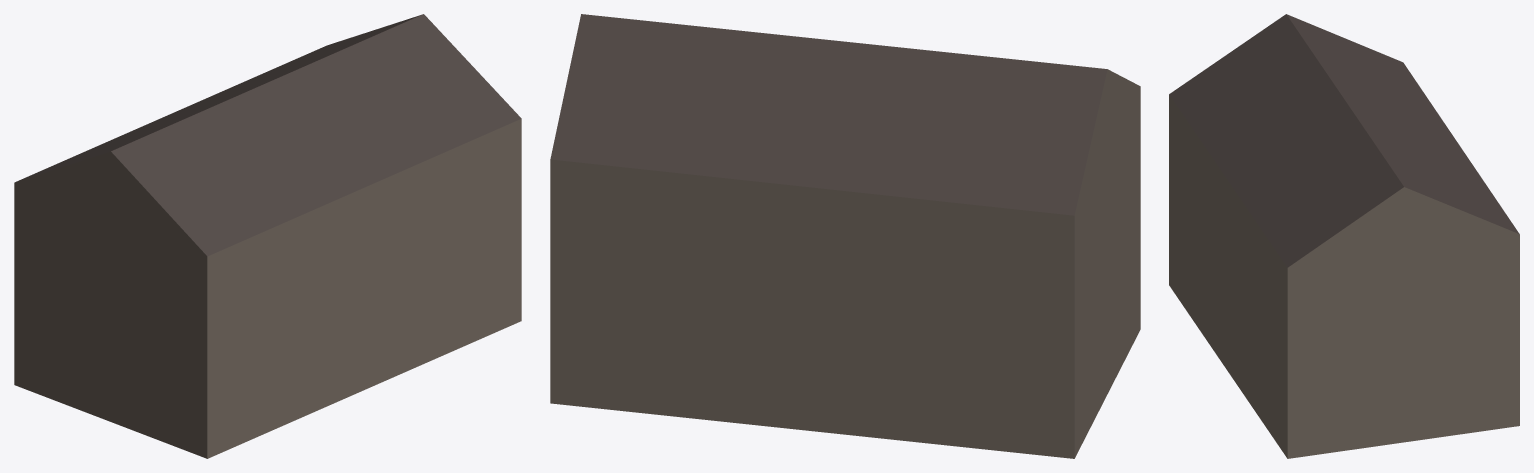
3 renders of one model, left to right at view 1: azimuth 30°, elevation 25°; view 2: azimuth 150°, elevation 25°; view 3: azimuth 270°, elevation 25°, orthographic. The views are drawn at different scales.
Visible parts, largest first — view 1: HP-w1196401641; view 2: HP-w1196401641; view 3: HP-w1196401641.
Part boxes in pixels (<box>): HP-w1196401641: <box>14,14,521,458</box>; HP-w1196401641: <box>550,14,1140,458</box>; HP-w1196401641: <box>1169,14,1519,458</box>.
Size of the model in its own units: 13.84 by 8.02 by 9.98.
